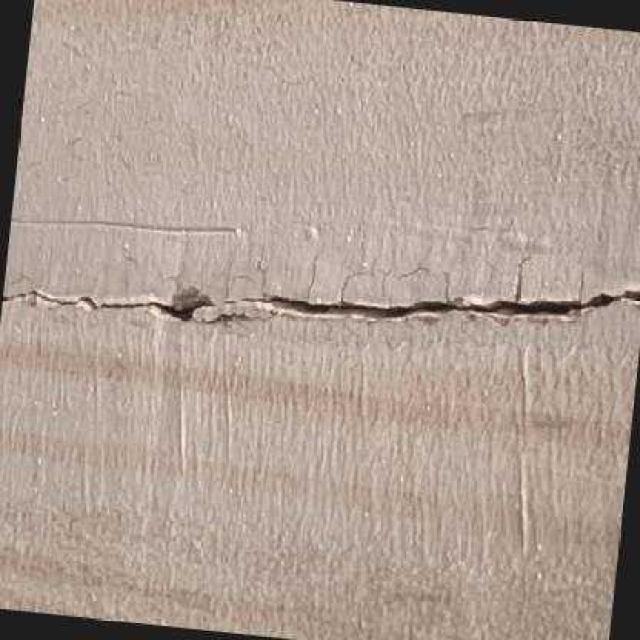D00: (0, 284, 640, 326)
